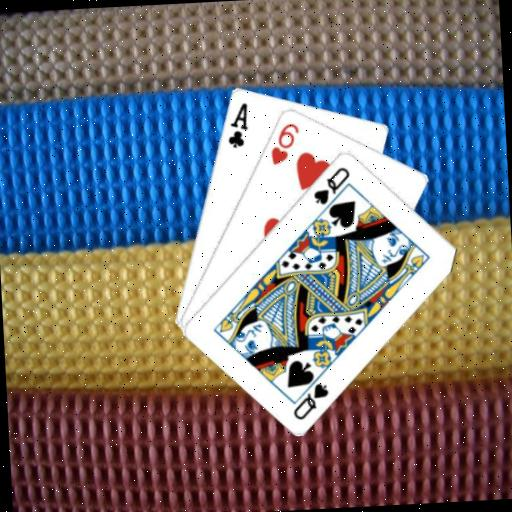6H: (266, 120, 302, 167)
AC: (222, 100, 251, 150)
QS: (309, 163, 353, 207), (288, 379, 331, 422)
